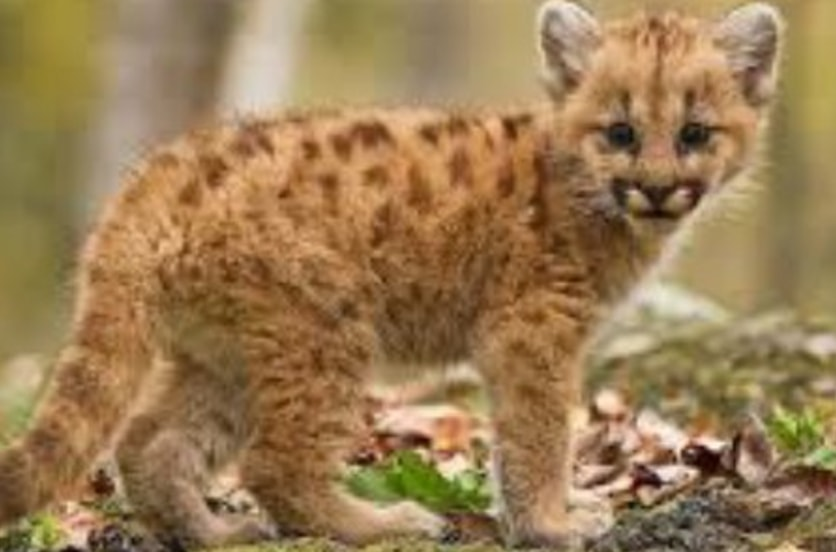Mountain Lion: (59, 11, 789, 538)
